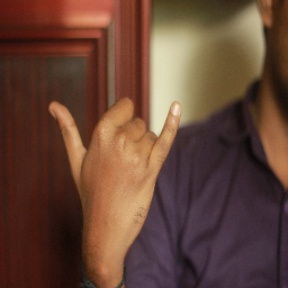J: (47, 79, 183, 227)
